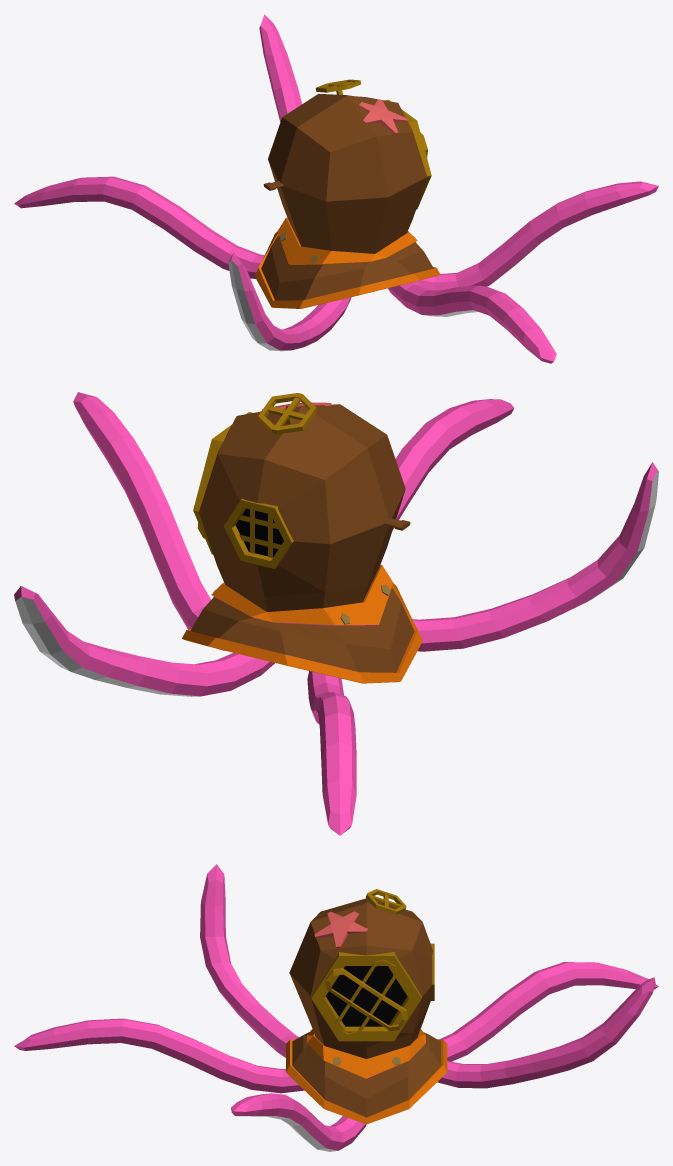
File: Divingsuit.fbx
3 views of the same model, one above another, from view 1: azimuth 30°, elevation 25°; view 2: azimuth 150°, elevation 25°; view 3: azimuth 270°, elevation 25° (orthographic). The views are drawn at different scales.
Visible parts, largest first — view 1: Cylinder.001; view 2: Cylinder.001; view 3: Cylinder.001.
Part boxes in pixels (bbox=[...]): Cylinder.001: bbox=[14, 14, 658, 363]; Cylinder.001: bbox=[14, 392, 658, 835]; Cylinder.001: bbox=[14, 864, 658, 1151].
Size of the model in its own units: 426 by 208 by 567.
